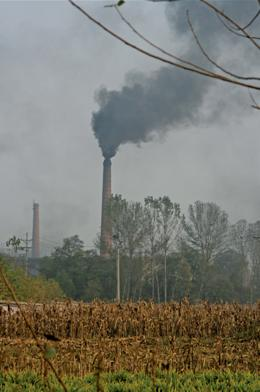dust: (87, 48, 204, 167)
